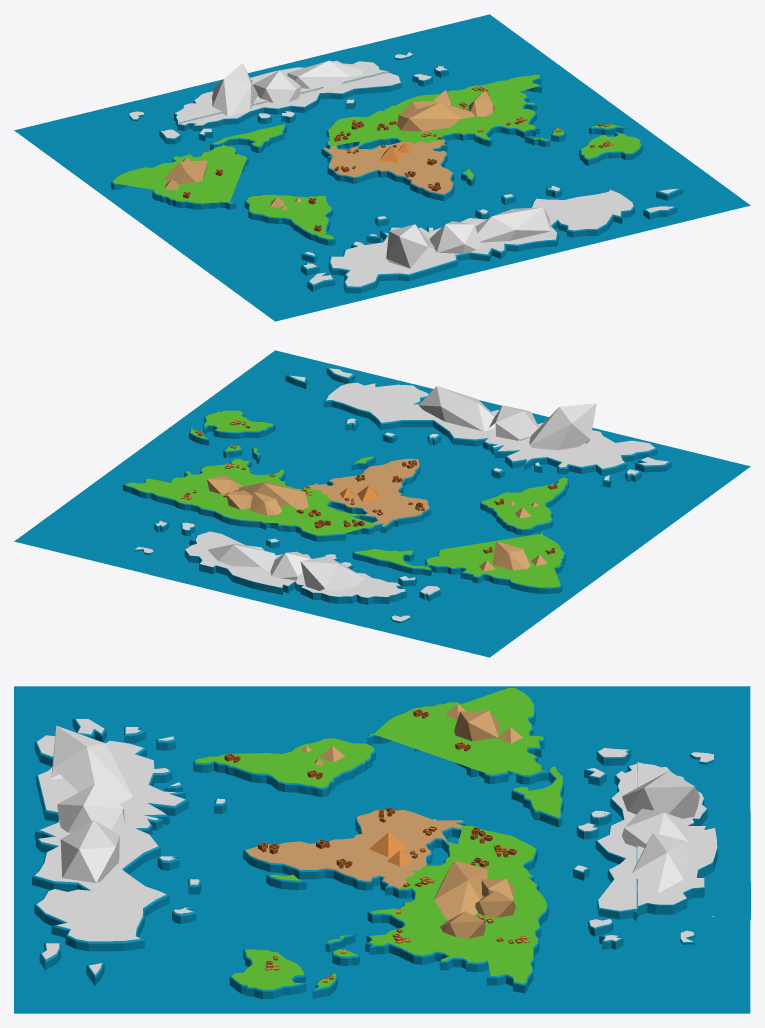
Rendered from World Map.fbx.
3 views of the same model, one above another, from view 1: azimuth 30°, elevation 25°; view 2: azimuth 150°, elevation 25°; view 3: azimuth 270°, elevation 25° (orthographic). The views are drawn at different scales.
Visible parts, largest first — view 1: Plane, Icosphere.004, Icosphere.002, Icosphere.010, Icosphere.005, Icosphere.001, Icosphere.003, Icosphere, Icosphere.008; view 2: Plane, Icosphere.005, Icosphere.004, Icosphere.002, Icosphere.003, Icosphere.001, Icosphere.010, Icosphere.008, Icosphere, Icosphere.007; view 3: Plane, Icosphere.005, Icosphere.004, Icosphere.002, Icosphere.001, Icosphere.010, Icosphere.003, Icosphere, Icosphere.008, Icosphere.009, Icosphere.006.
Boxes of the visible parts, x1,y1,x2,y2 form: Plane: (14,14,750,321); Icosphere.004: (475,207,550,242); Icosphere.002: (212,63,257,115); Icosphere.010: (397,102,474,131); Icosphere.005: (386,224,434,268); Icosphere.001: (287,60,362,88); Icosphere.003: (429,221,481,253); Icosphere: (253,70,301,102); Icosphere.008: (164,160,207,183); Plane: (14,350,750,657); Icosphere.005: (529,403,596,450); Icosphere.004: (418,386,495,431); Icosphere.002: (300,556,364,591); Icosphere.003: (489,405,538,440); Icosphere.001: (207,543,276,571); Icosphere.010: (238,482,308,510); Icosphere.008: (492,541,530,570); Icosphere: (270,551,311,580); Icosphere.007: (250,491,282,515); Plane: (14,686,750,1013); Icosphere.005: (51,725,133,803); Icosphere.004: (60,820,119,882); Icosphere.002: (622,771,699,818); Icosphere.001: (632,832,687,916); Icosphere.010: (434,860,487,920); Icosphere.003: (57,784,125,832); Icosphere: (622,808,688,847); Icosphere.008: (454,710,499,741); Icosphere.009: (440,911,485,938); Icosphere.006: (475,890,515,917).
Size of the model in its own units: 1899 by 238 by 1808.
